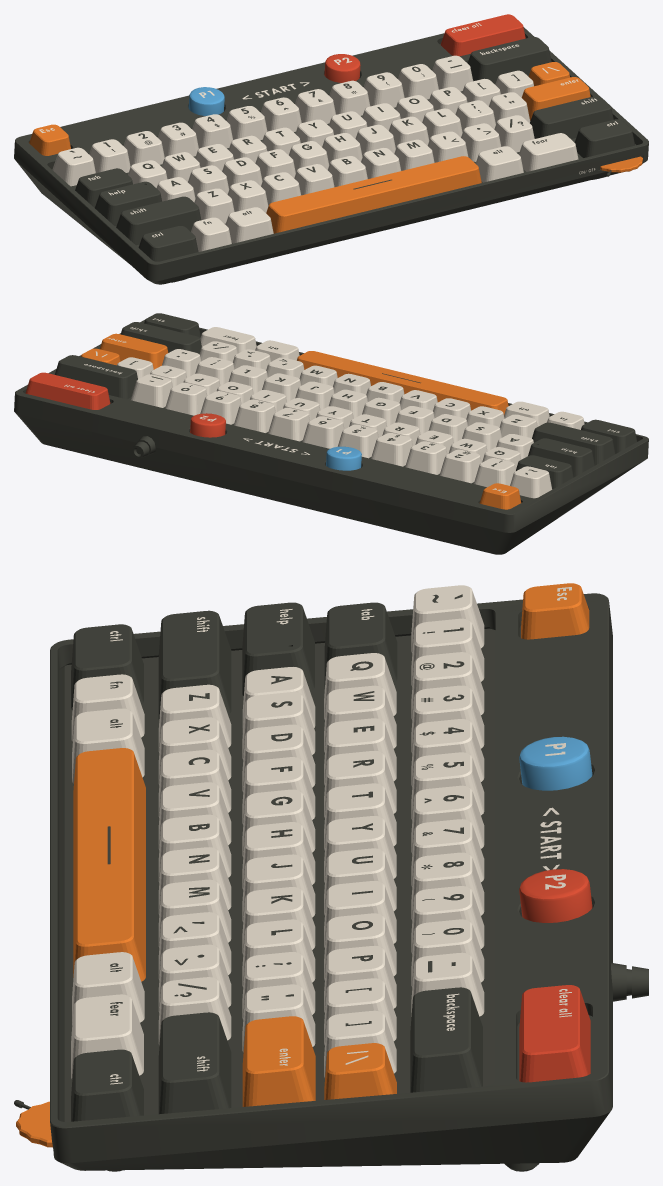
Rendered from Keyboard Final 2.fbx.
The picture shows the model from 3 angles, top to bottom: view 1: azimuth 30°, elevation 25°; view 2: azimuth 150°, elevation 25°; view 3: azimuth 270°, elevation 25°; orthographic projection. The views are drawn at different scales.
Visible parts, largest first — view 1: Cube.168, Cube.134, Cube.157, Cube.135, Cube.152, Cube.169, Cube.163, Cube.164, Cube.141, Cube.154, Cube.161, Cube.162 (+53 smaller); view 2: Cube.168, Cube.134, Cube.157, Cube.169, Cube.135, Cube.141, Cube.152, Cube.154, Cube.172, Cube.198, Cube.173, Cube.197 (+52 smaller); view 3: Cube.168, Cube.212, Cube.134, Cube.157, Cube.152, Cube.169, Cube.154, Cube.135, Cube.141, Cube.163, Cube.164, Cube.146 (+54 smaller).
Boxes of the visible parts, bbox=[...] form: Cube.168: bbox=[14, 27, 648, 284]; Cube.134: bbox=[266, 156, 481, 233]; Cube.157: bbox=[467, 37, 551, 83]; Cube.135: bbox=[116, 196, 201, 245]; Cube.152: bbox=[530, 96, 613, 139]; Cube.169: bbox=[440, 14, 525, 56]; Cube.163: bbox=[574, 119, 634, 157]; Cube.164: bbox=[518, 133, 578, 171]; Cube.141: bbox=[95, 181, 161, 225]; Cube.154: bbox=[521, 77, 590, 120]; Cube.161: bbox=[138, 226, 198, 261]; Cube.162: bbox=[475, 146, 523, 182]; Cube.168: bbox=[14, 319, 648, 554]; Cube.134: bbox=[297, 351, 508, 414]; Cube.157: bbox=[55, 355, 137, 399]; Cube.169: bbox=[25, 372, 110, 409]; Cube.135: bbox=[532, 422, 615, 465]; Cube.141: bbox=[528, 438, 594, 477]; Cube.152: bbox=[121, 322, 201, 353]; Cube.154: bbox=[100, 333, 168, 369]; Cube.172: bbox=[439, 449, 481, 483]; Cube.198: bbox=[234, 399, 275, 432]; Cube.173: bbox=[405, 441, 447, 474]; Cube.197: bbox=[268, 408, 310, 441]; Cube.168: bbox=[50, 593, 648, 1171]; Cube.212: bbox=[64, 629, 495, 1121]; Cube.134: bbox=[73, 748, 145, 981]; Cube.157: bbox=[410, 987, 482, 1092]; Cube.152: bbox=[158, 1012, 231, 1114]; Cube.169: bbox=[519, 985, 590, 1082]; Cube.154: bbox=[242, 1016, 315, 1106]; Cube.135: bbox=[158, 610, 231, 720]; Cube.141: bbox=[242, 602, 314, 695]; Cube.163: bbox=[71, 1049, 143, 1121]; Cube.164: bbox=[71, 994, 143, 1079]; Cube.146: bbox=[324, 602, 397, 686].
Size of the model in its own units: 1022 by 1859 by 249.
